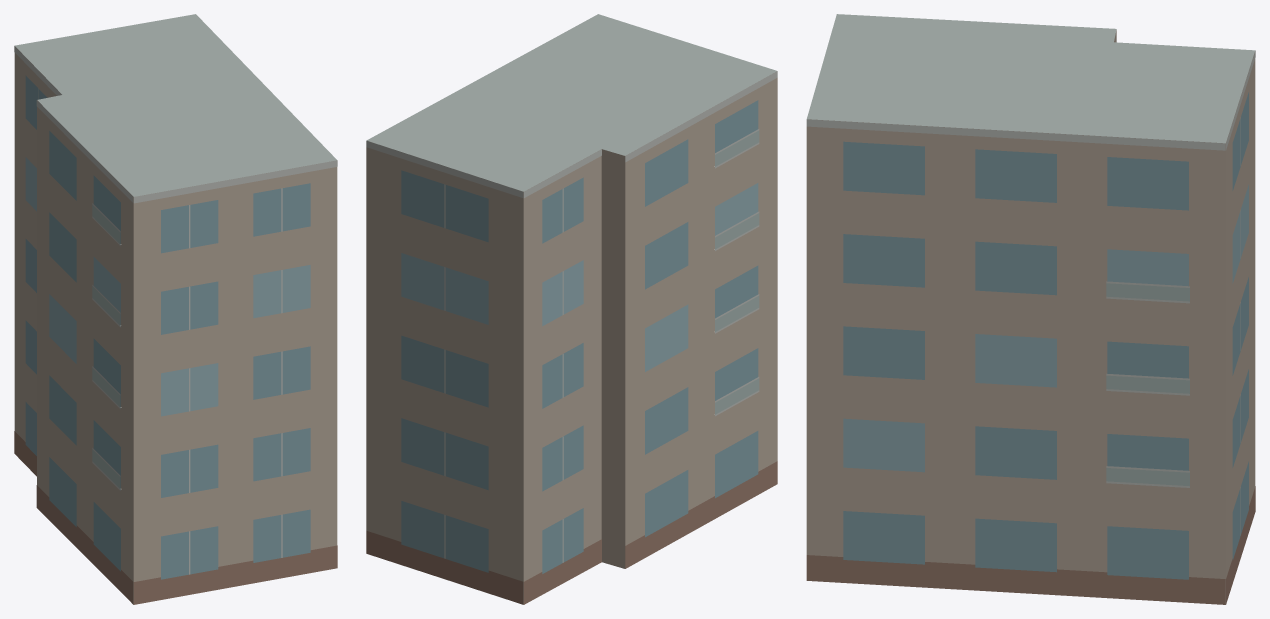
Rendered from survey-upis-32824093.glb.
3 renders of one model, left to right at view 1: azimuth 30°, elevation 25°; view 2: azimuth 150°, elevation 25°; view 3: azimuth 270°, elevation 25°, orthographic. The views are drawn at different scales.
Visible parts, largest first — view 1: survey-upis-32824093.tmp; view 2: survey-upis-32824093.tmp; view 3: survey-upis-32824093.tmp.
Boxes of the visible parts, x1,y1,x2,y2 form: survey-upis-32824093.tmp: (14, 14, 337, 604); survey-upis-32824093.tmp: (366, 14, 777, 604); survey-upis-32824093.tmp: (806, 14, 1255, 604).
Size of the model in its own units: 9.17 by 15.25 by 13.45.
